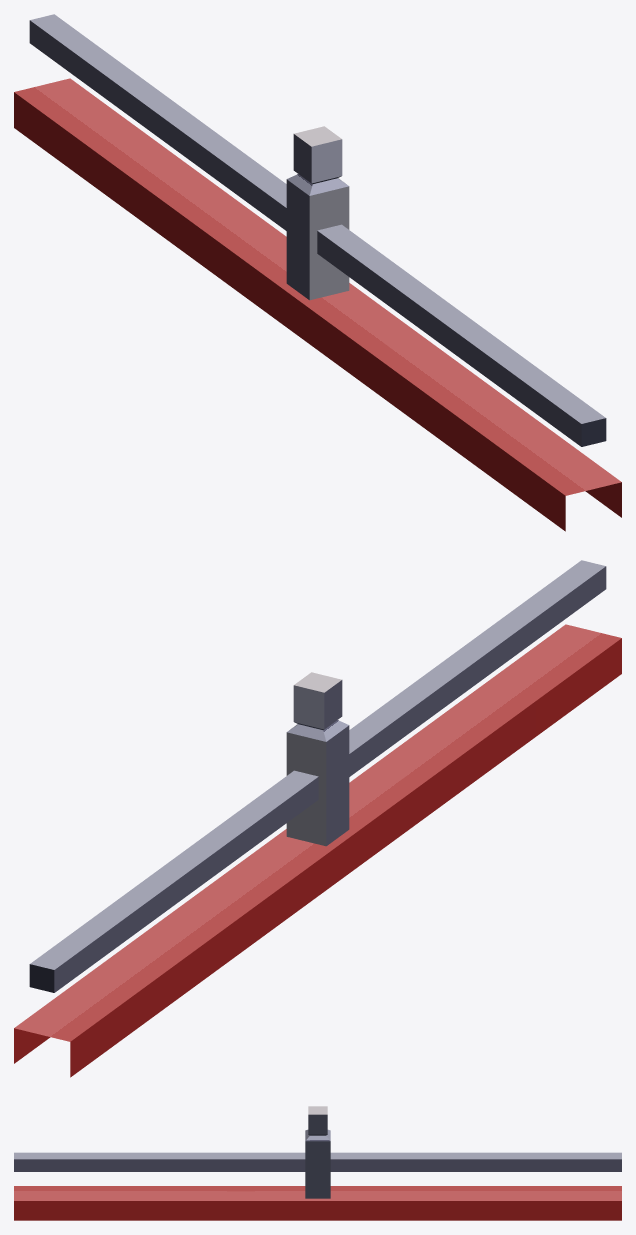
The model's file is mesh_weilan.fbx.
3 renders of one model, top to bottom at view 1: azimuth 30°, elevation 25°; view 2: azimuth 150°, elevation 25°; view 3: azimuth 270°, elevation 25°, orthographic. The views are drawn at different scales.
Parts seen in each view (by area): view 1: weilan_2, weilan_1, zhuzi; view 2: weilan_2, weilan_1, zhuzi; view 3: weilan_2, weilan_1, zhuzi.
Part boxes in pixels (left/top/right/bottom): weilan_2: left=14, top=78, right=621, bottom=531; weilan_1: left=29, top=14, right=606, bottom=446; zhuzi: left=286, top=126, right=349, bottom=300; weilan_2: left=14, top=624, right=621, bottom=1077; weilan_1: left=29, top=560, right=606, bottom=992; zhuzi: left=286, top=672, right=349, bottom=846; weilan_2: left=14, top=1186, right=621, bottom=1220; weilan_1: left=14, top=1152, right=621, bottom=1171; zhuzi: left=305, top=1106, right=330, bottom=1198.
Bounding box in the file's own units: 0.4707 × 1.49 × 8.
1 material, 1 textured.
